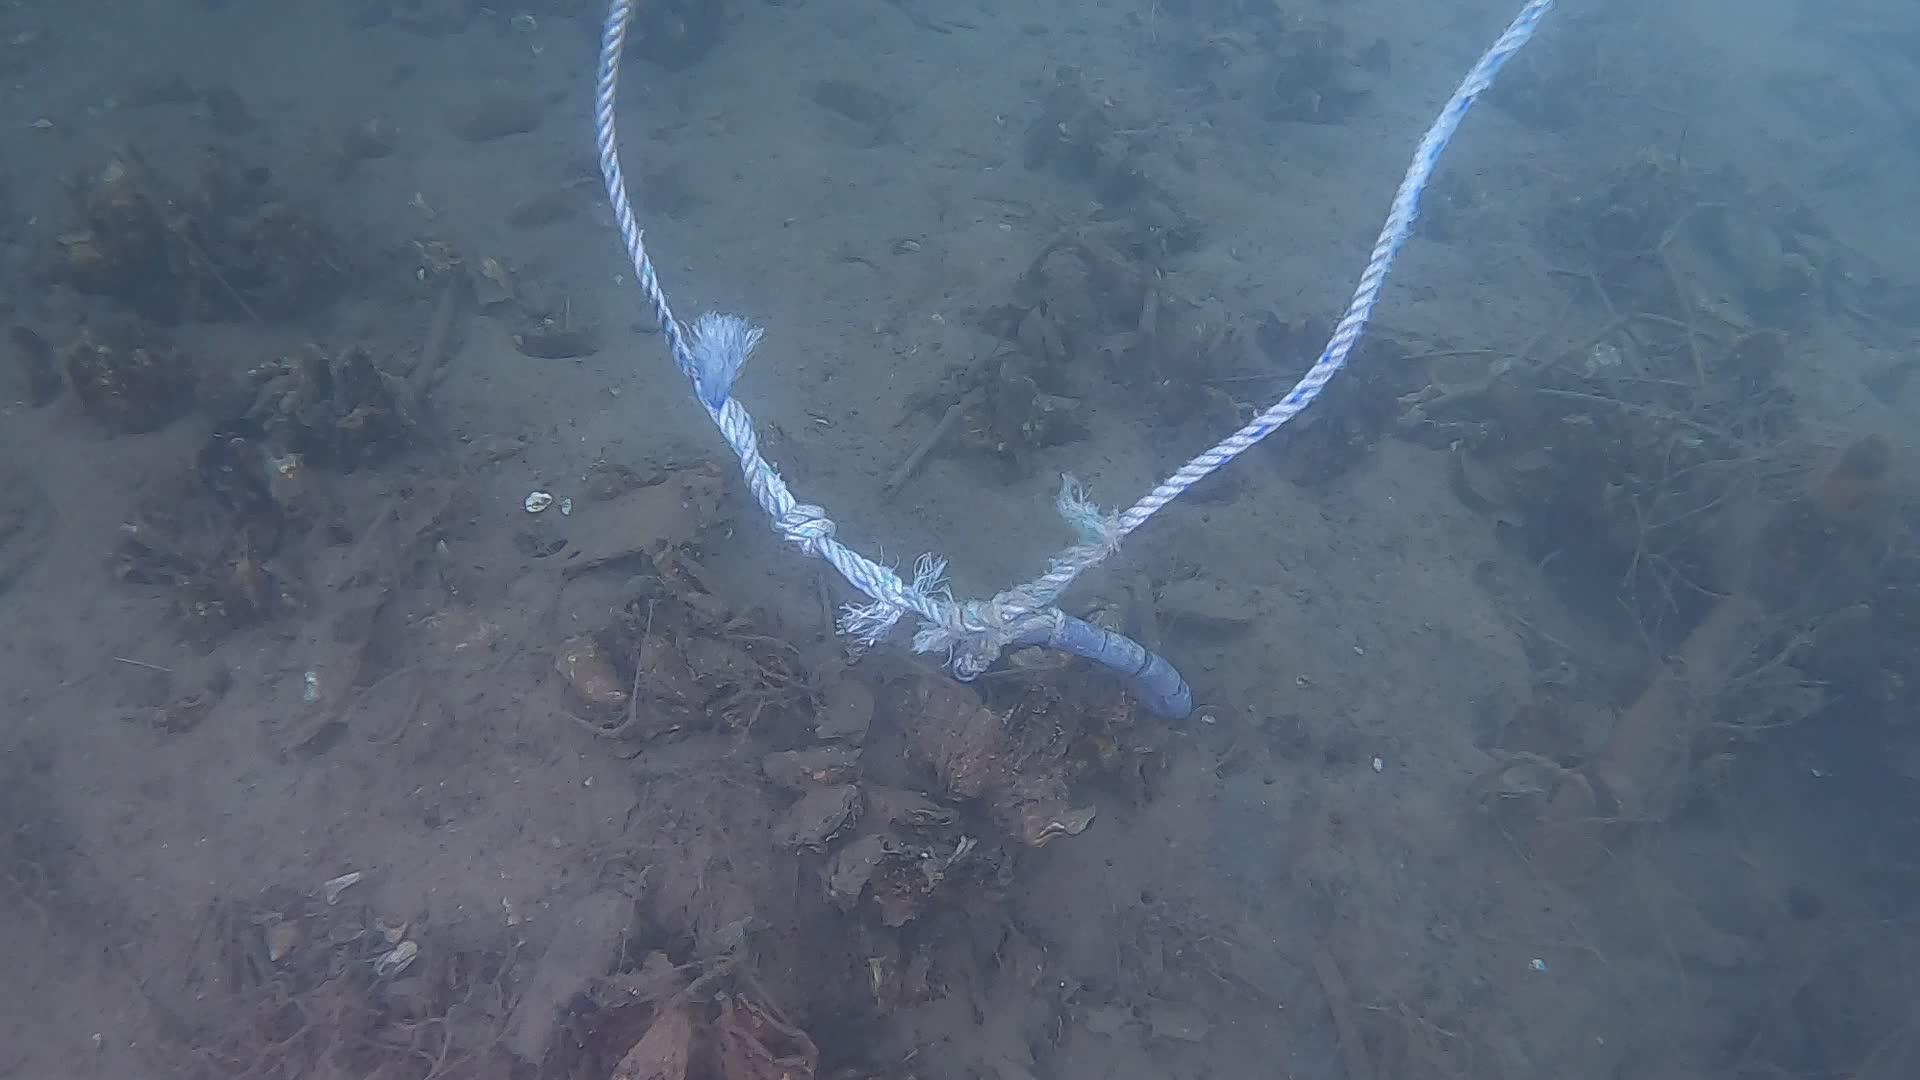bundle of ropes: (592, 0, 1557, 633)
